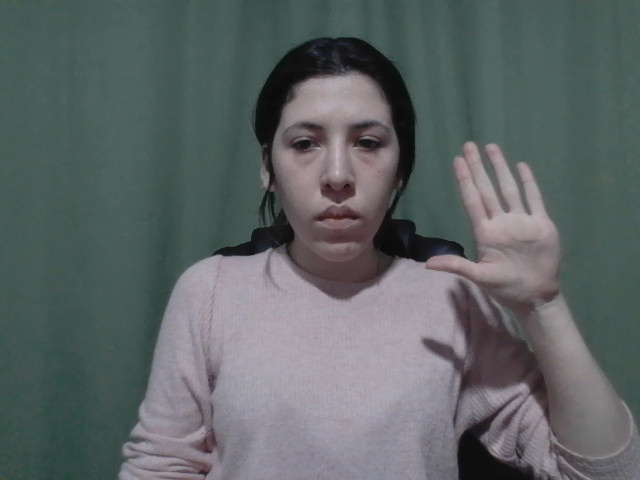HOLA: (422, 140, 583, 307)
